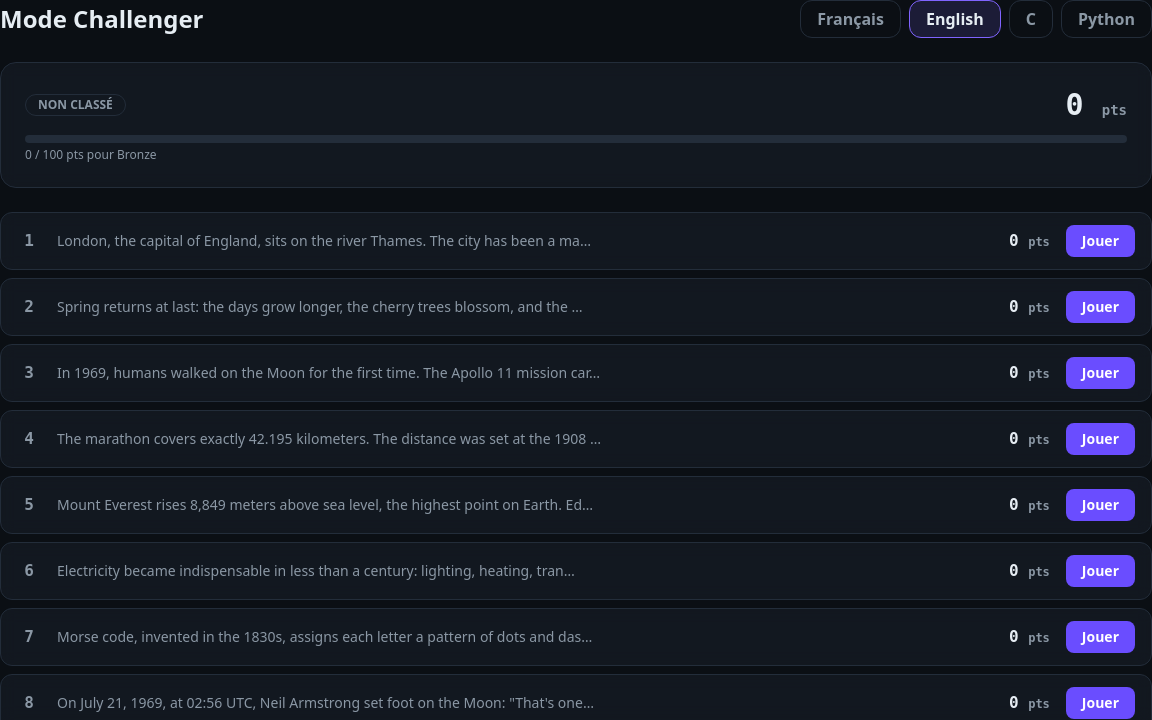
ChallengerPage › démarre une run challenger avec tous les toggles actifs
What coordinates should you click on to do the following:
click the 1st button "Jouer"
I would click on:
 (1100, 241)
Its box is left=1066, top=225, right=1135, bottom=257.
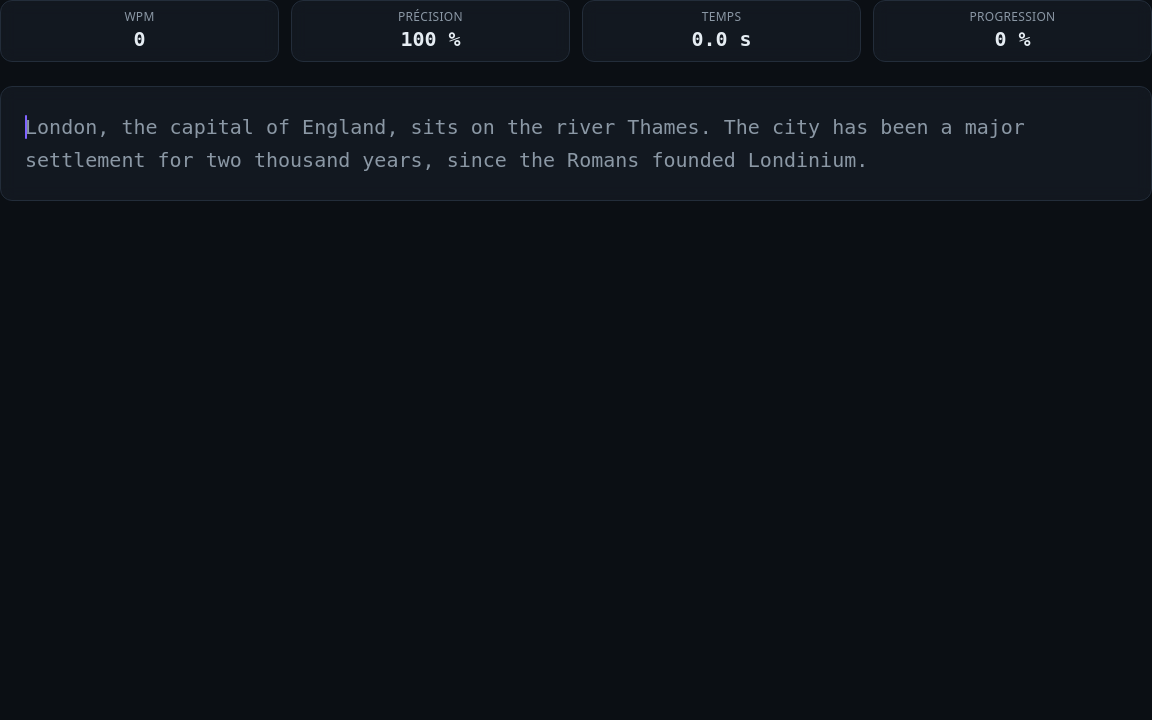
Expected: the element with test id "typing-area" is shown, left=0, top=86, right=1151, bottom=201
